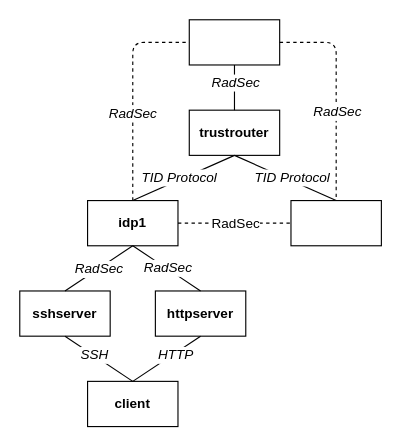
Some shapes in this 401 by 446 pixel diagram are drawn without their labels. The shapes that lost their labels are listed below. From the top down, each one's centre as x and y in pixels, then its label:
At point 234,42: "apc".
At point 335,222: "idp2".
